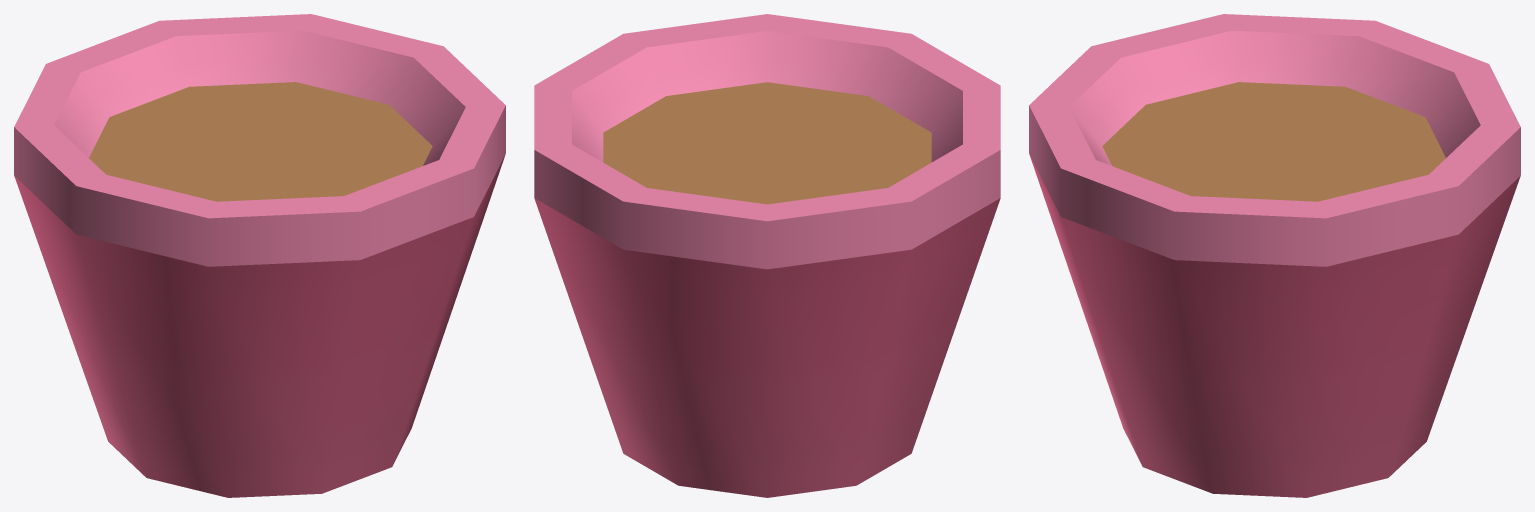
File: PlantPot_5_B.fbx
The picture shows the model from 3 angles, left to right: view 1: azimuth 30°, elevation 25°; view 2: azimuth 150°, elevation 25°; view 3: azimuth 270°, elevation 25°; orthographic projection.
Parts seen in each view (by area): view 1: PlantPot_5_B; view 2: PlantPot_5_B; view 3: PlantPot_5_B.
Boxes of the visible parts, x1,y1,x2,y2 form: PlantPot_5_B: [14, 14, 505, 497]; PlantPot_5_B: [534, 14, 1000, 497]; PlantPot_5_B: [1029, 14, 1520, 497].
Size of the model in its own units: 18.93 by 13.76 by 19.24.
